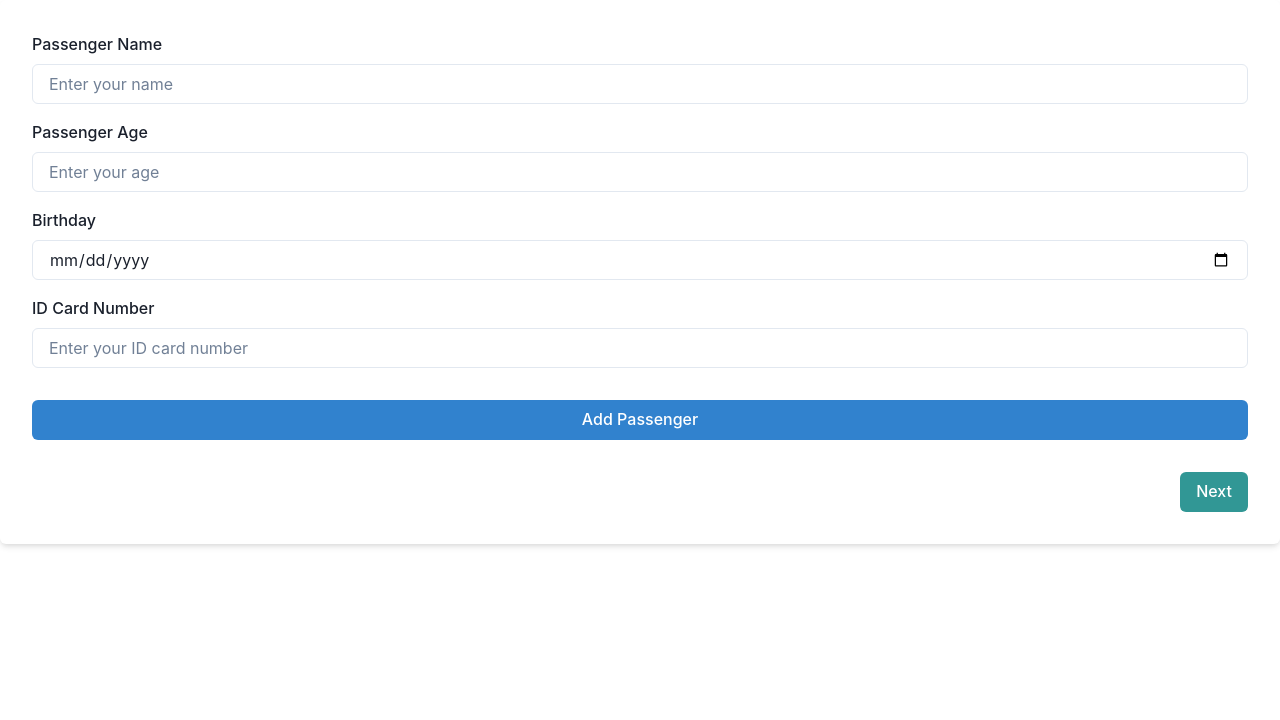
Test case: PassengerInfoForm › validates form fields and shows error messages
The width and height of the screenshot is (1280, 720).
Click the button "Add Passenger" at coordinates (640, 420), box [32, 400, 1248, 440]
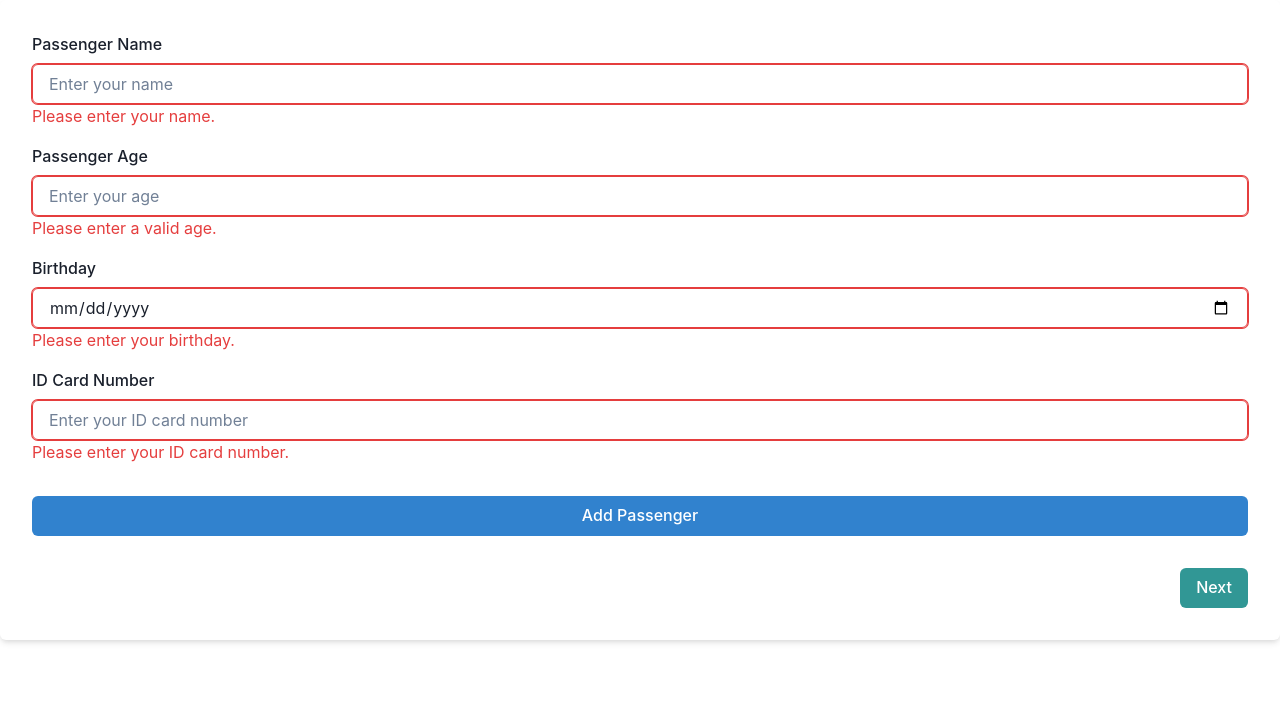
Expected: the text "Please enter your name." is shown, [32, 106, 215, 126]
Expected: the text "Please enter a valid age." is shown, [32, 218, 217, 238]
Expected: the text "Please enter your birthday." is shown, [32, 330, 235, 350]
